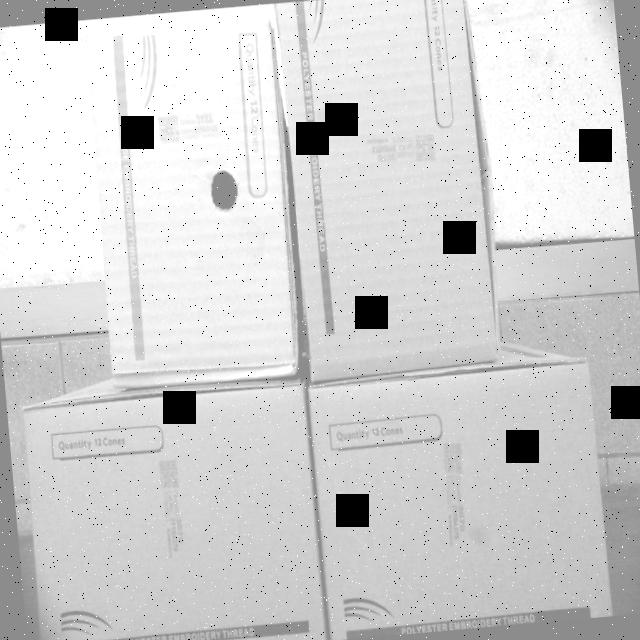box: (270, 0, 504, 384), (312, 360, 614, 638), (84, 16, 301, 398), (22, 384, 326, 640)
